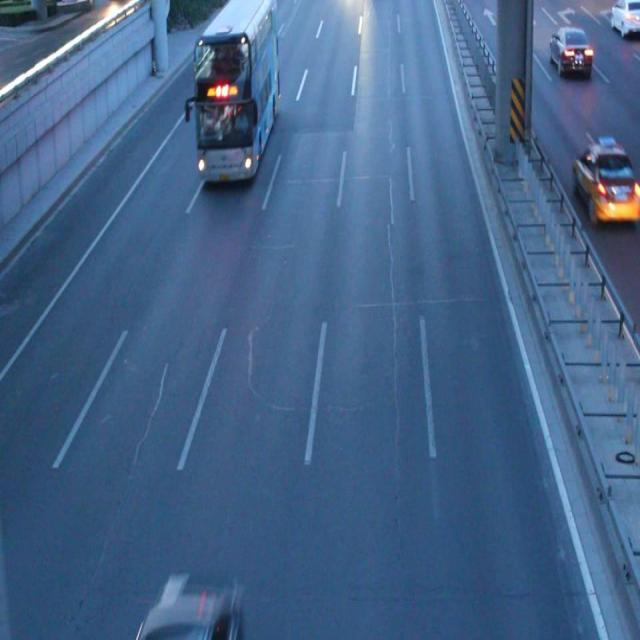car: (573, 128, 640, 225), (550, 27, 591, 75)
van: (193, 1, 280, 186)
